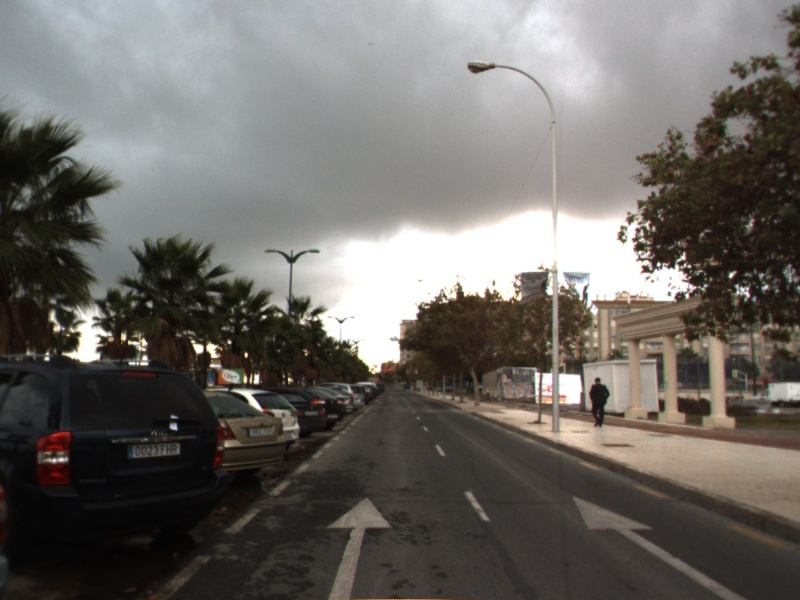STRAIGHT: (570, 493, 751, 600), (325, 495, 396, 600)
